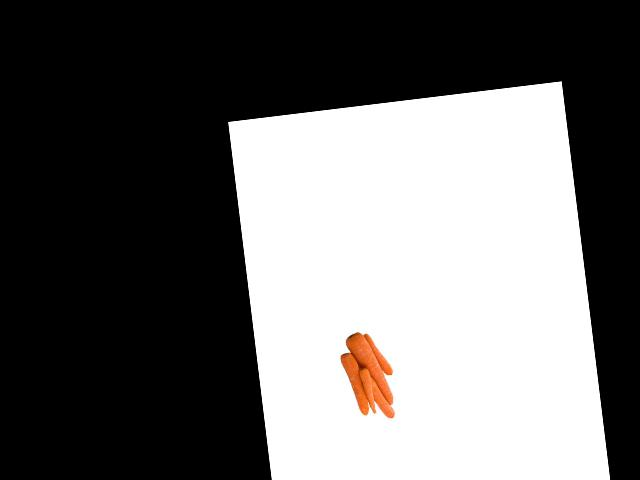carrot: (342, 348, 366, 420)
